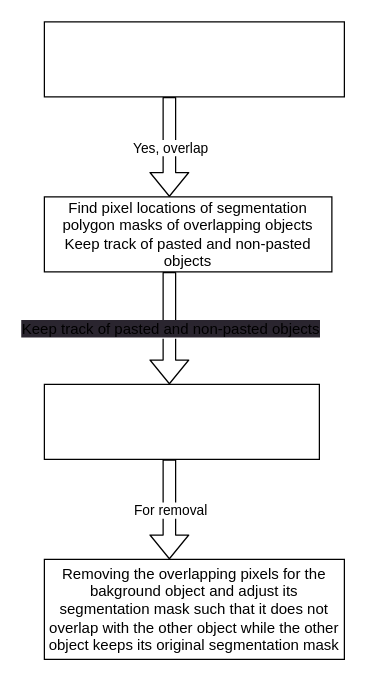
This 366x681 diagram has some shape labels left out. The box of each missing label's shape, as (x1, y1, x2, y2) in pixels:
Determine if bboxs overlap: (43, 21, 344, 97)
Find locations of overlapping pixels: (43, 383, 319, 459)
